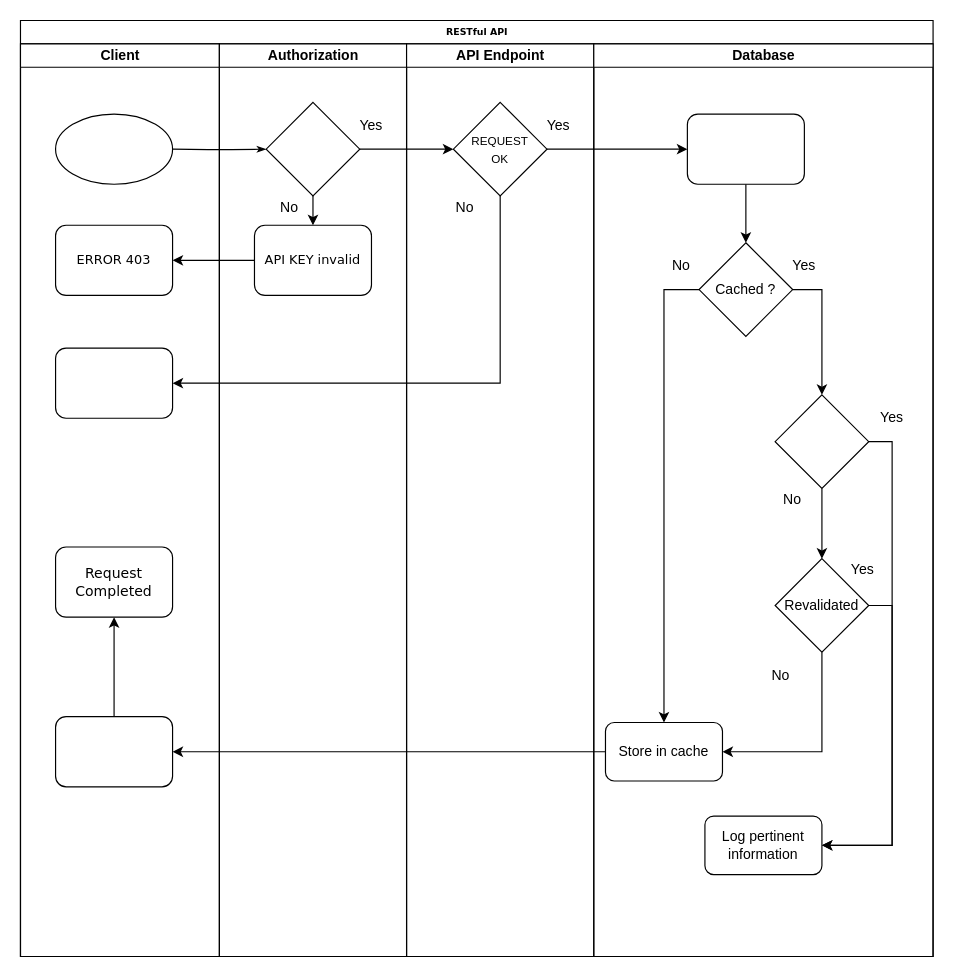
Some shapes in this 954 by 977 pixel diagram are drawn without their labels. The shapes that lost their labels are listed below. From the top down, each one's centre as x and y in pixels, then its label:
the point at 113,148: Request
the point at 312,148: Authorized?
the point at 745,148: GET, POST, PATCH, DELETE
the point at 113,382: ERROR 404
the point at 821,441: within fressness lifetime
the point at 113,751: Success Code 200
